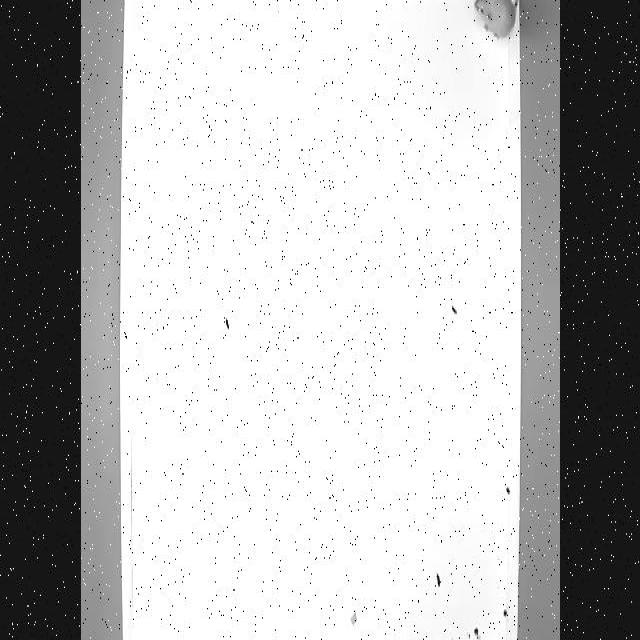rat: (472, 0, 521, 43)
